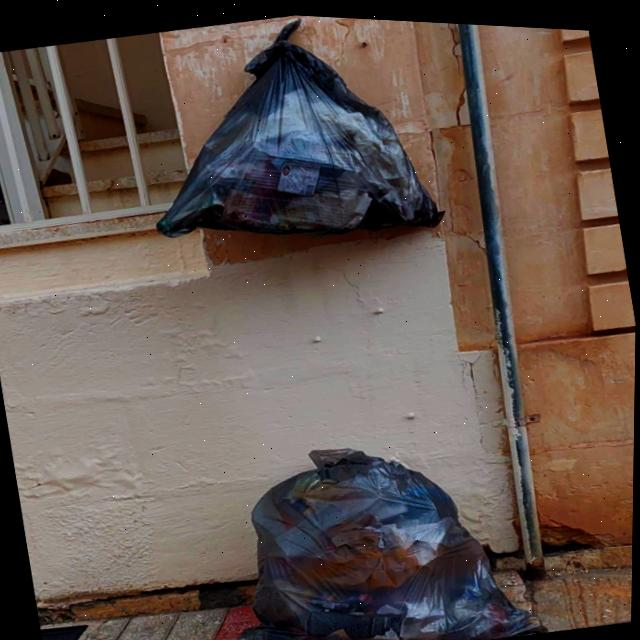Mixed Waste -Black Bag-: (124, 6, 448, 271), (184, 405, 544, 640)
